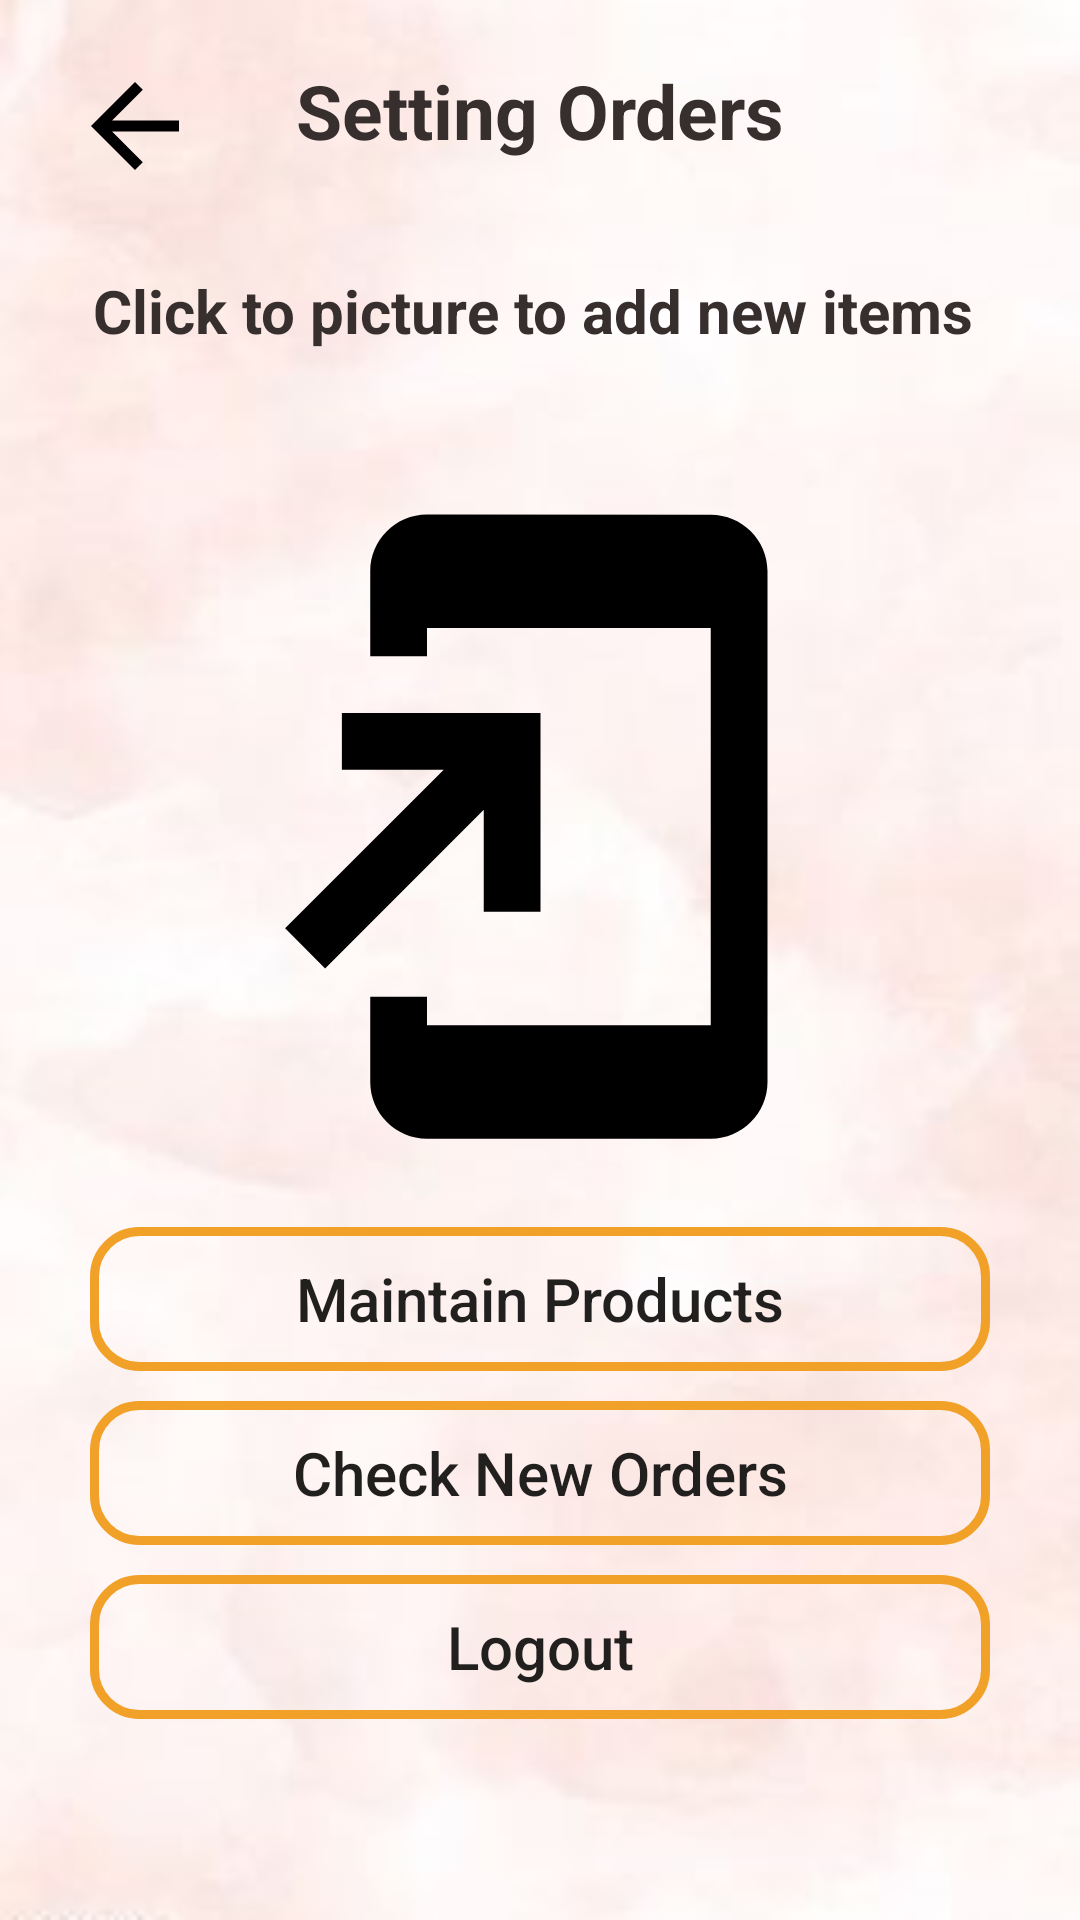

Where icons sit on this 1080 × 1920 app screen, as (x1, y1, x2, y2):
back: (91, 82, 179, 170)
